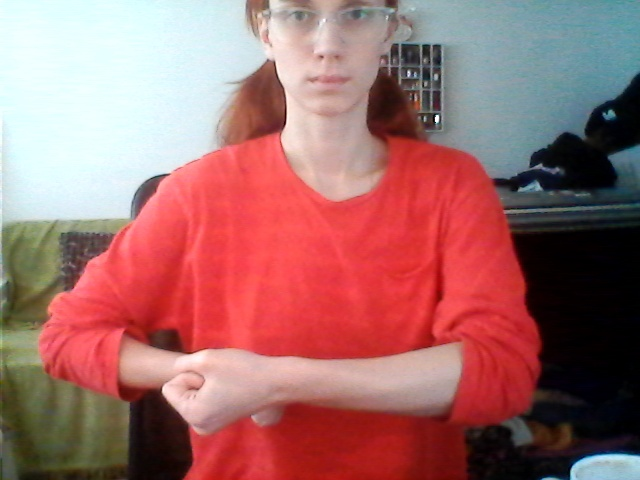hasic: (146, 320, 339, 450)
